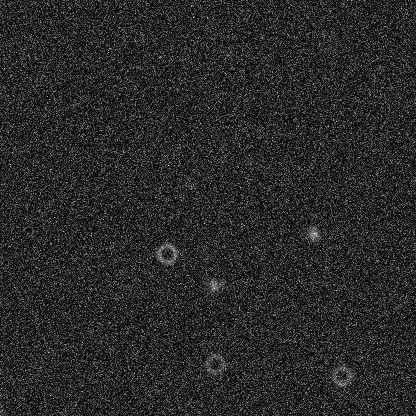Ring: (154, 241, 178, 265), (315, 30, 339, 54), (329, 363, 353, 387), (203, 351, 227, 375)
Spot: (206, 277, 222, 293), (242, 154, 258, 170), (305, 225, 321, 241), (219, 44, 235, 60)
